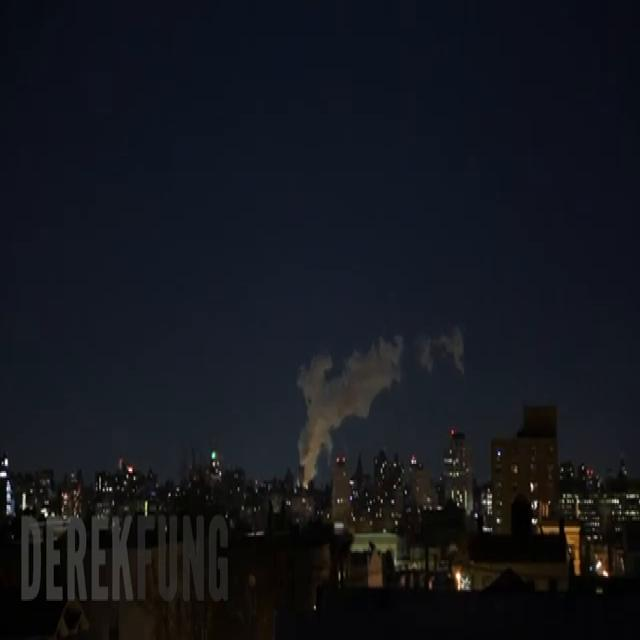smoke: (297, 336, 402, 478)
